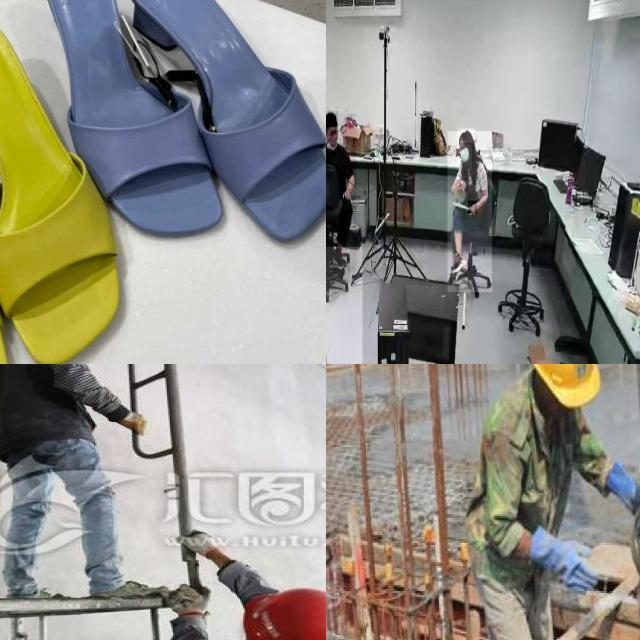Sandals: (36, 0, 326, 252), (0, 10, 139, 364)
face_mask: (457, 144, 472, 170)
face_nomask: (326, 127, 338, 145)
hand_glove: (527, 529, 600, 600), (159, 582, 214, 616), (174, 524, 218, 559), (119, 405, 149, 439)
hand_noglove: (468, 200, 478, 214), (456, 178, 466, 192), (341, 188, 351, 201)
head_helmet: (239, 587, 326, 640), (522, 364, 607, 411)
head_nohelmet: (458, 128, 474, 144), (326, 110, 338, 127)
person: (464, 364, 627, 640), (0, 364, 157, 602), (169, 565, 326, 640), (448, 131, 492, 293), (326, 113, 357, 288)
shoes: (82, 568, 162, 603), (0, 573, 65, 607), (331, 244, 346, 270), (449, 251, 466, 272)
